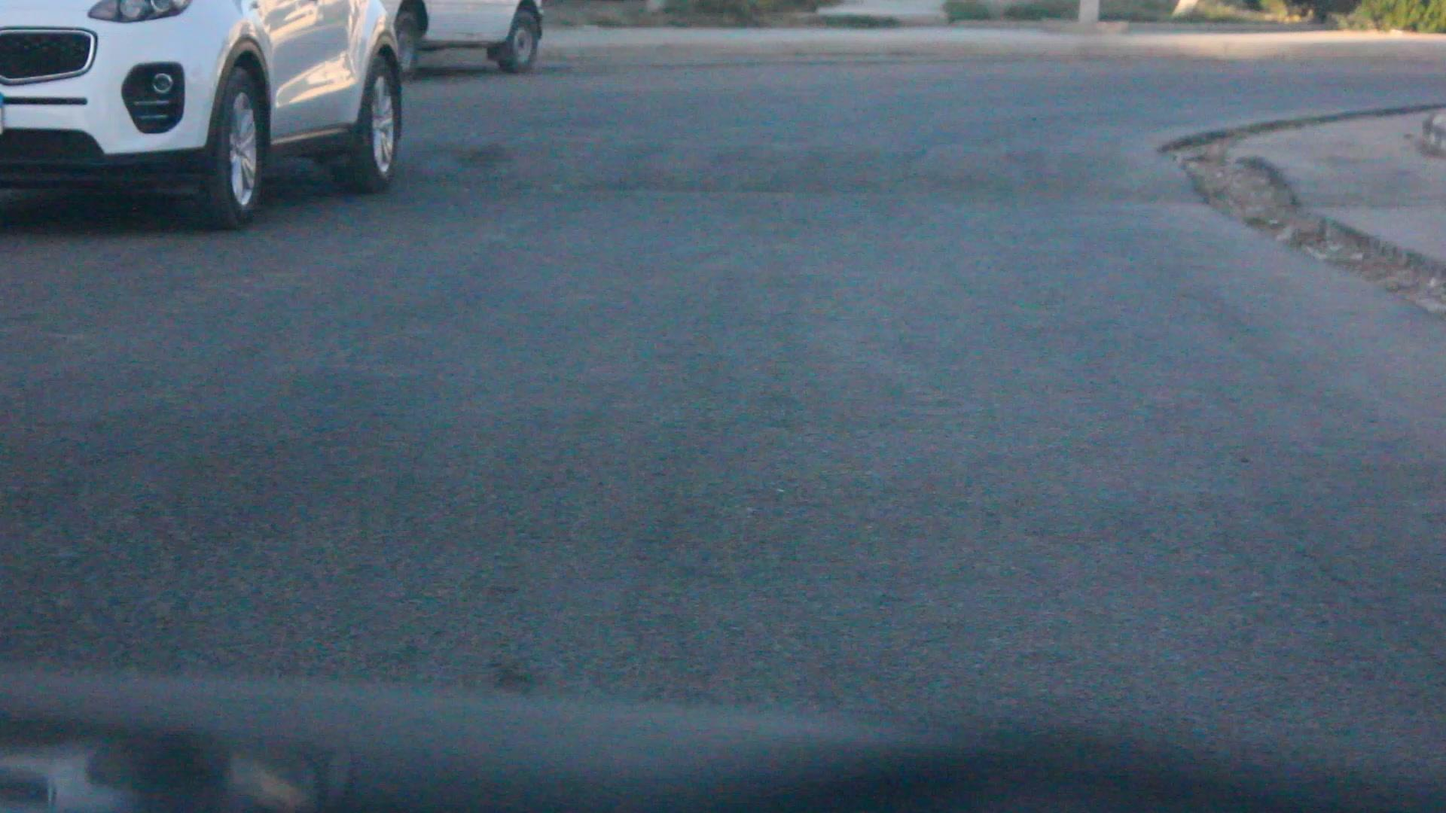Bump: (427, 113, 1213, 196)
